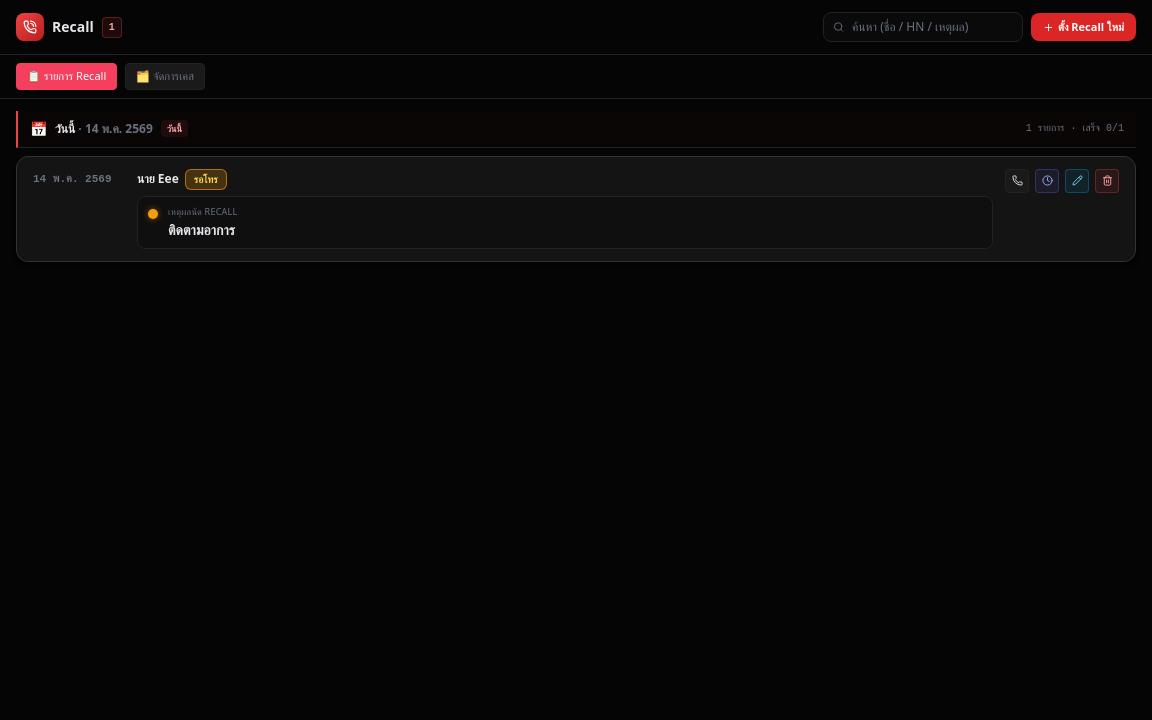
Test case: Phase 29 · MS10 modal close → list re-render preserves component instance › MS10.1 opening + closing outcome modal does NOT unmount the underlying list row
// Open modal (click record button)
Click the button with test id "recall-record-R-x" at [1017, 180], box [1005, 168, 1029, 192]
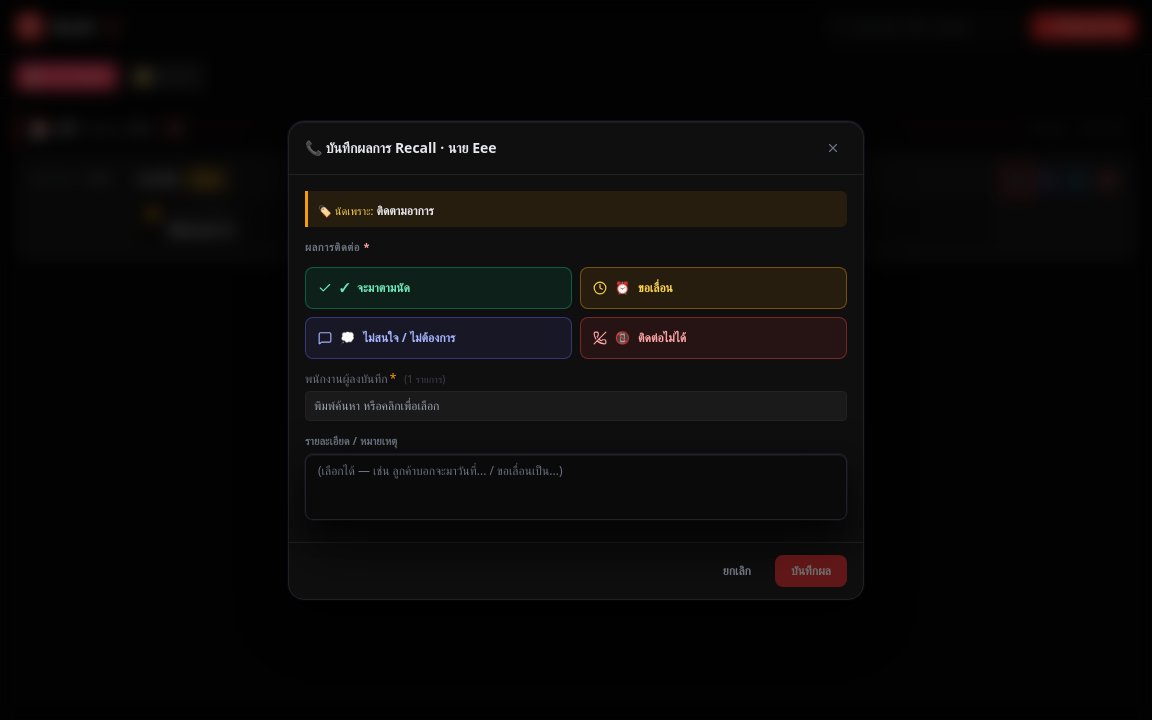
Now the element with test id "recall-outcome-modal" is shown
// Close modal (cancel)
Click the button with test id "recall-outcome-cancel" at [737, 570], box [707, 554, 767, 586]
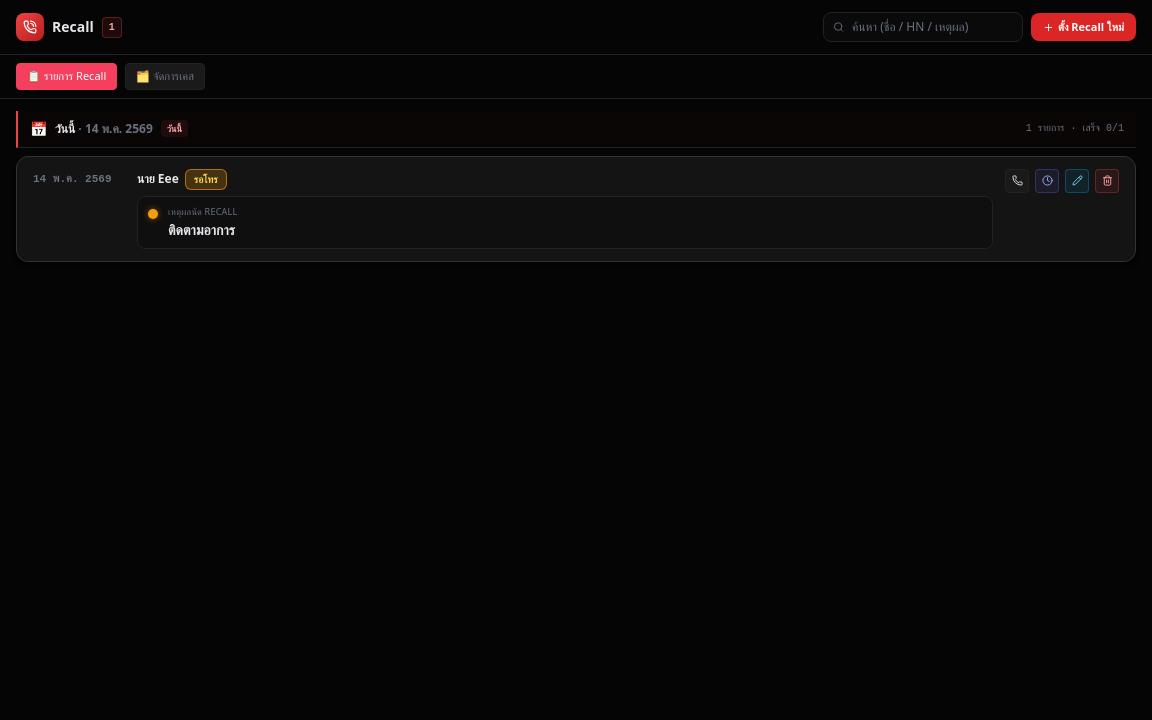
Now the element with test id "recall-outcome-modal" is gone
